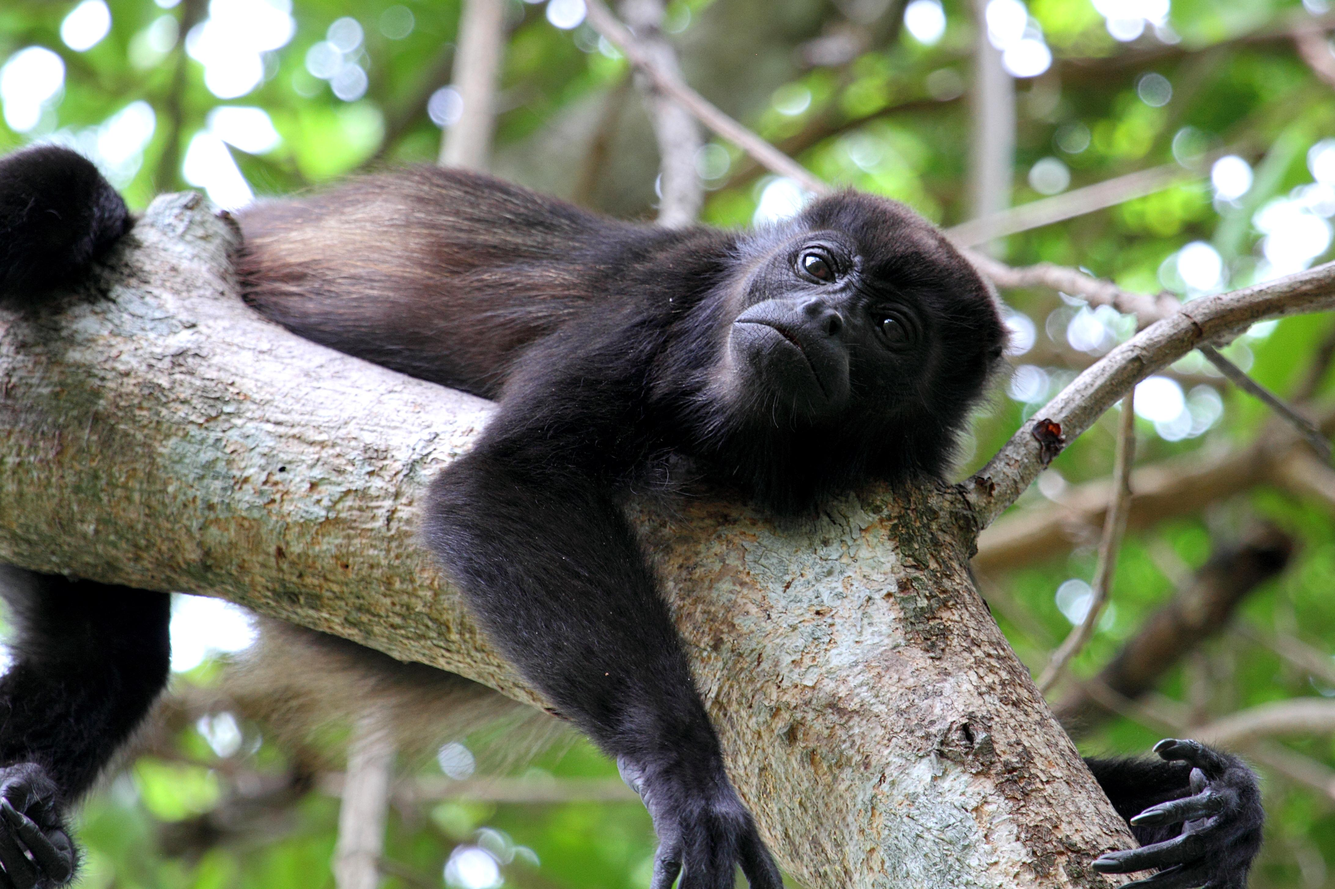monkey: (219, 166, 1259, 889), (0, 564, 175, 805)
